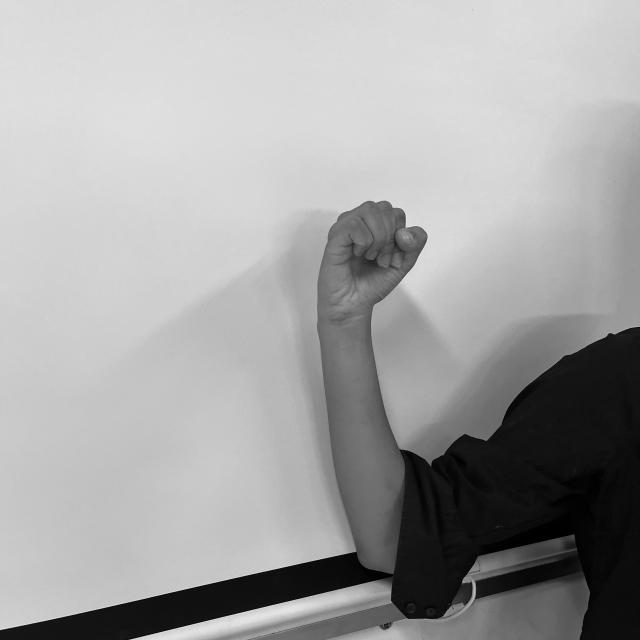Letra S: (313, 195, 433, 326)
